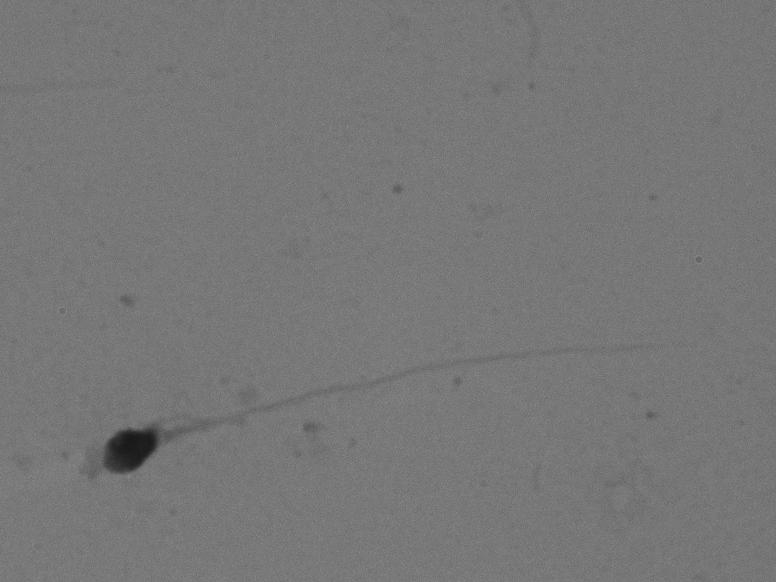Abnormal: (83, 300, 720, 499)
